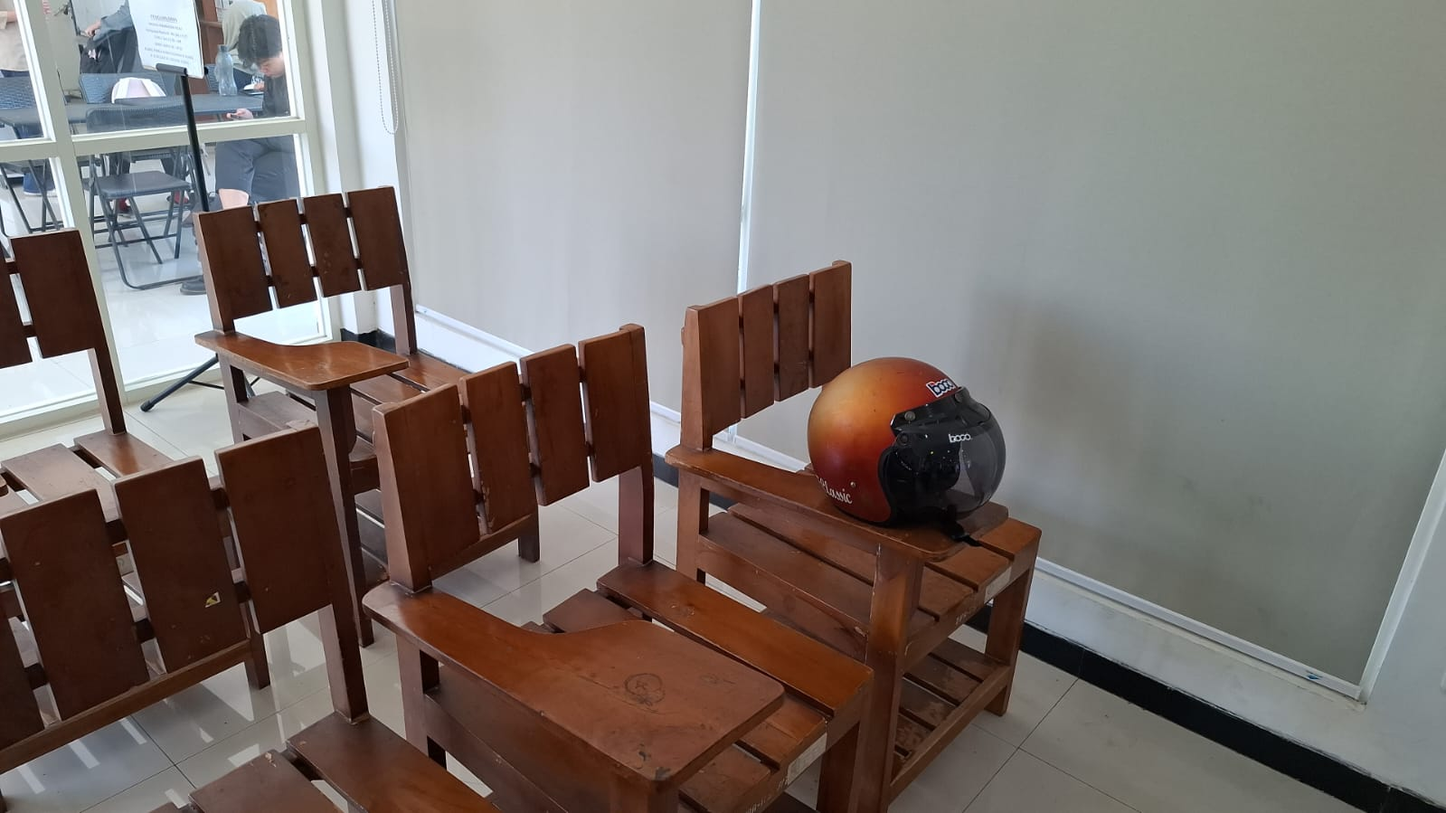chair: (364, 326, 869, 812), (667, 262, 1039, 812), (0, 428, 369, 775), (197, 188, 429, 645), (0, 230, 129, 442)
floor-other-merged: (0, 362, 501, 812), (888, 566, 1445, 812), (435, 382, 618, 625), (650, 419, 776, 621), (818, 482, 963, 539), (782, 750, 821, 812), (950, 607, 990, 648)
person: (214, 13, 299, 206)
wall-other-merged: (392, 0, 1445, 691)
window-other: (0, 0, 391, 430), (238, 290, 391, 347), (0, 349, 104, 430)
